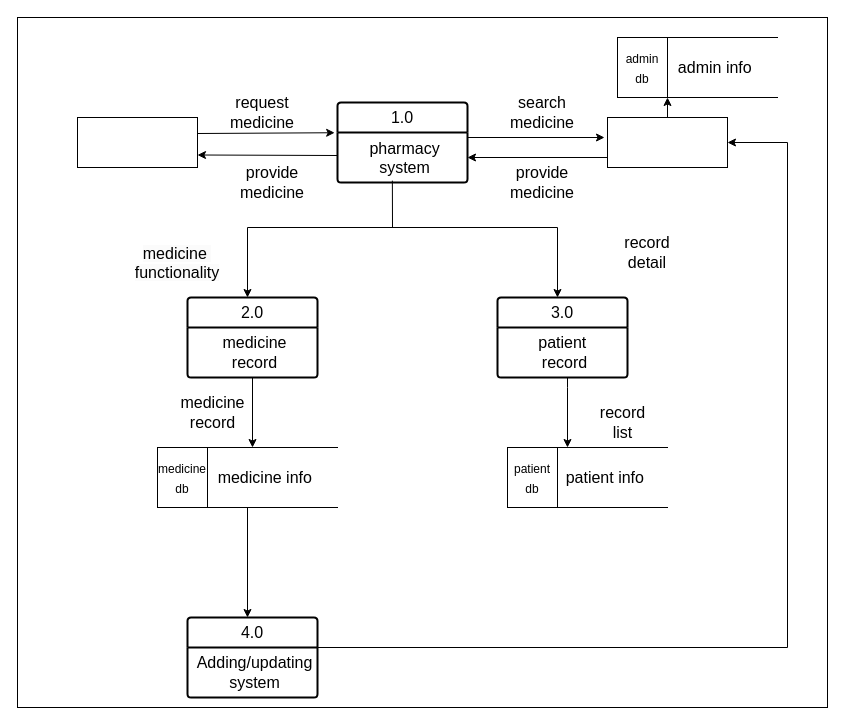
The diagram is 845 pixels wide and 725 high, and some of its shapes have lost their labels. Here are the shapes that lost their labels. From the top down, the box of each, then its label:
(76, 116, 198, 168): user
(606, 116, 728, 168): admin
